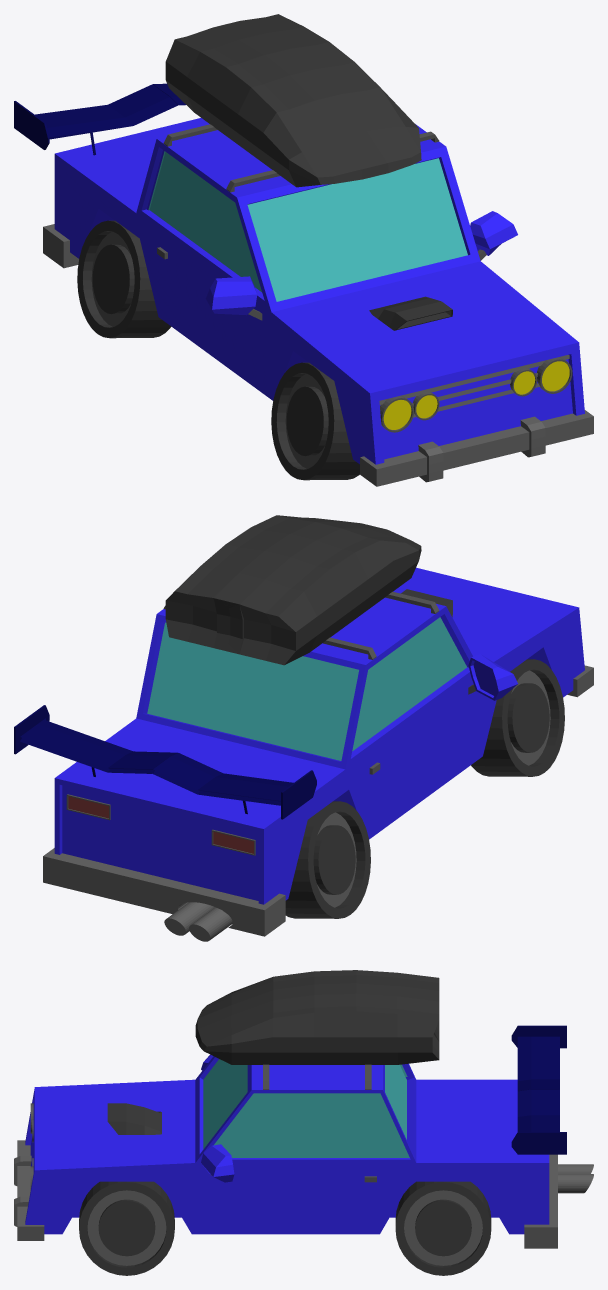
Rendered from MyFirstCar2.fbx.
3 views of the same model, one above another, from view 1: azimuth 30°, elevation 25°; view 2: azimuth 150°, elevation 25°; view 3: azimuth 270°, elevation 25° (orthographic). The views are drawn at different scales.
Parts seen in each view (by area): view 1: CarBody, Thule, Wheels.002, Wheels, FrontBumper, Cube, Mirrors, HEadlights, HoodScoop, Grill, BumberPart, HEadLights1 (+2 smaller); view 2: CarBody, Thule, Cube, Wheels, RearBumper, Wheels.002, Cylinder.002, TailLights, Mirrors, RoofRack; view 3: CarBody, Thule, Wheels, Wheels.001, Cube, HoodScoop, RearBumper, FrontBumper, Cylinder.002, Mirrors, BumberPart.
Part boxes in pixels (x1,y1,x2,y2): CarBody: [54, 118, 584, 464]; Thule: [165, 14, 421, 187]; Wheels.002: [271, 362, 359, 480]; Wheels: [77, 220, 171, 338]; FrontBumper: [360, 410, 593, 486]; Cube: [14, 83, 185, 155]; Mirrors: [205, 211, 517, 315]; HEadlights: [380, 357, 572, 432]; HoodScoop: [369, 296, 452, 330]; Grill: [379, 355, 569, 425]; BumberPart: [418, 416, 545, 482]; HEadLights1: [413, 368, 537, 420]; CarBody: [54, 567, 584, 904]; Thule: [165, 515, 421, 665]; Cube: [14, 705, 316, 819]; Wheels: [285, 801, 370, 918]; RearBumper: [43, 848, 285, 936]; Wheels.002: [471, 659, 564, 776]; Cylinder.002: [164, 902, 232, 941]; TailLights: [66, 794, 255, 855]; Mirrors: [468, 654, 517, 700]; RoofRack: [163, 591, 439, 659]; CarBody: [25, 1056, 549, 1234]; Thule: [195, 970, 439, 1064]; Wheels: [395, 1181, 491, 1275]; Wheels.001: [79, 1181, 174, 1275]; Cube: [511, 1025, 566, 1154]; HoodScoop: [107, 1103, 161, 1134]; RearBumper: [524, 1154, 557, 1248]; FrontBumper: [17, 1140, 44, 1240]; Cylinder.002: [558, 1164, 593, 1193]; Mirrors: [201, 1054, 234, 1182]; BumberPart: [14, 1155, 31, 1226].
Size of the model in its own units: 439 by 412 by 883.
